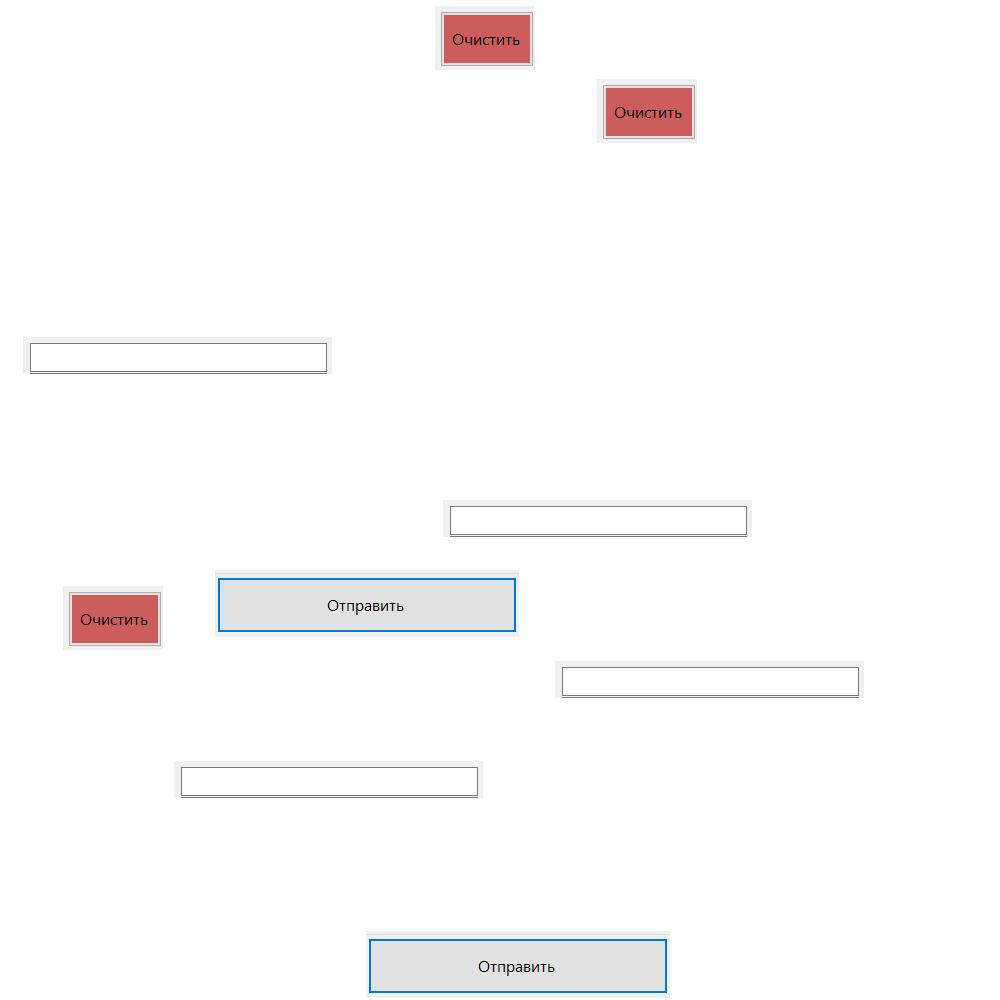Button: (215, 570, 519, 637), (366, 931, 670, 998), (597, 79, 697, 143), (435, 6, 535, 70), (63, 586, 163, 650)
EditText-: (555, 661, 864, 698), (174, 761, 483, 798), (23, 337, 332, 374), (443, 500, 752, 537)
